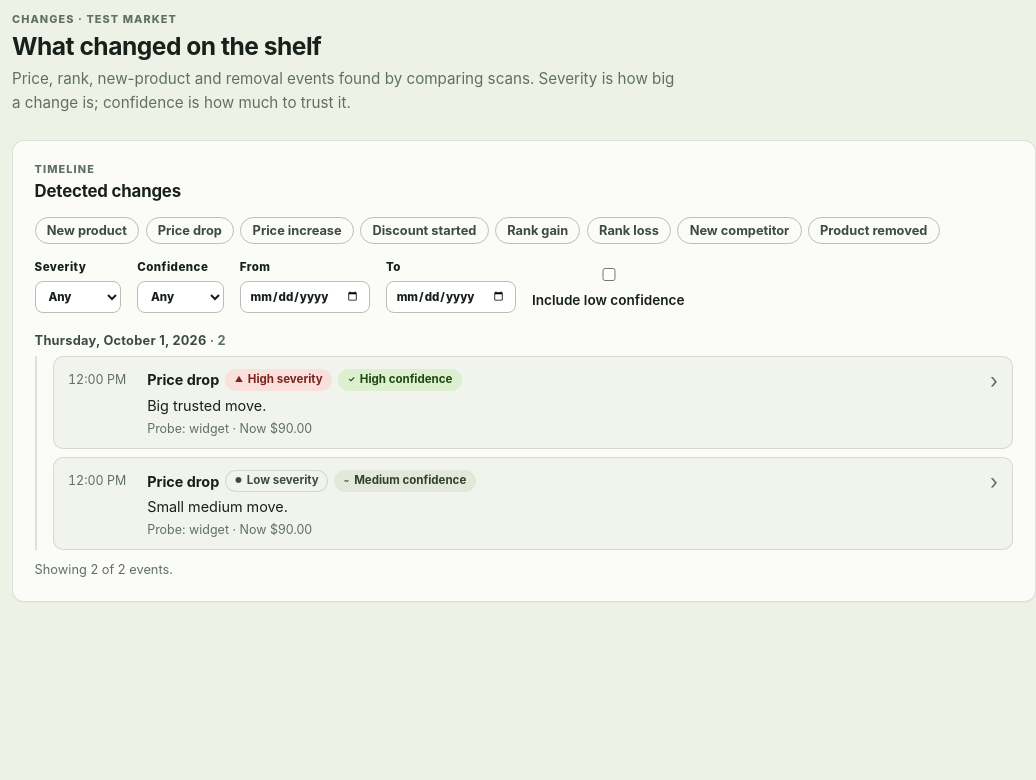
ChangesPage › filters the loaded events by severity and by confidence
This screenshot has width=1036, height=780.
Select "High" in the dropdown labelled "Severity" at {"x": 78, "y": 297}, box [35,281,121,313]
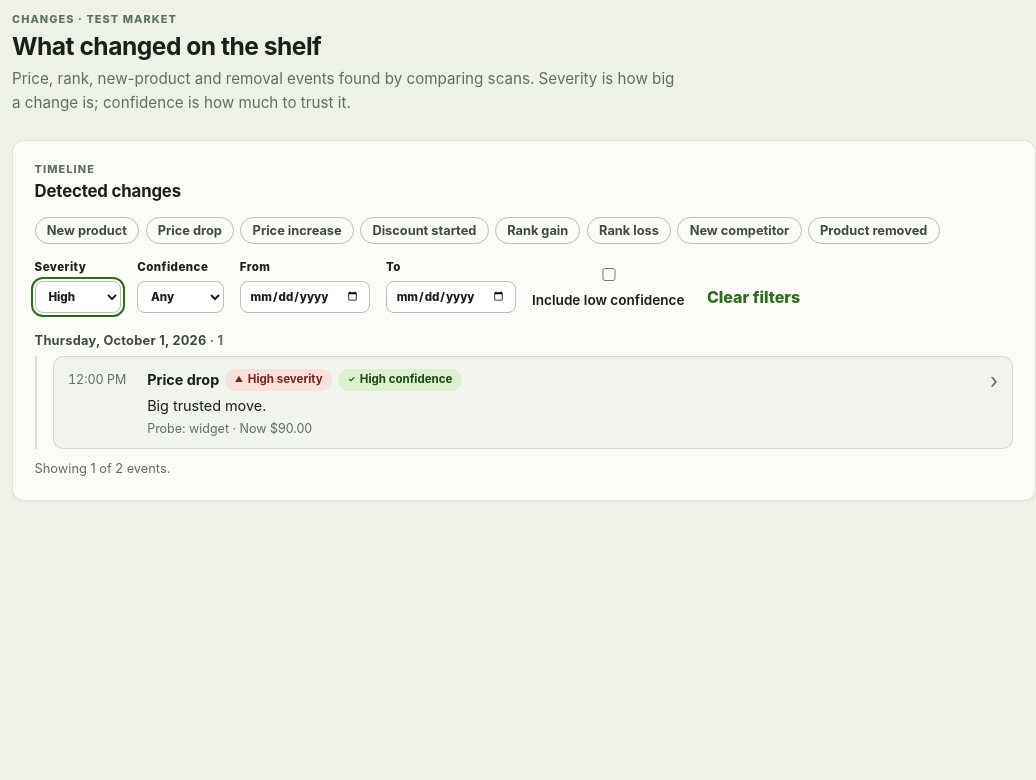
Expected: the text "Big trusted move." is shown, [147,397,266,414]
Expected: the button "Small medium move." is gone
Select "Any" in the dropdown labelled "Severity" at {"x": 78, "y": 297}, box [35,281,121,313]
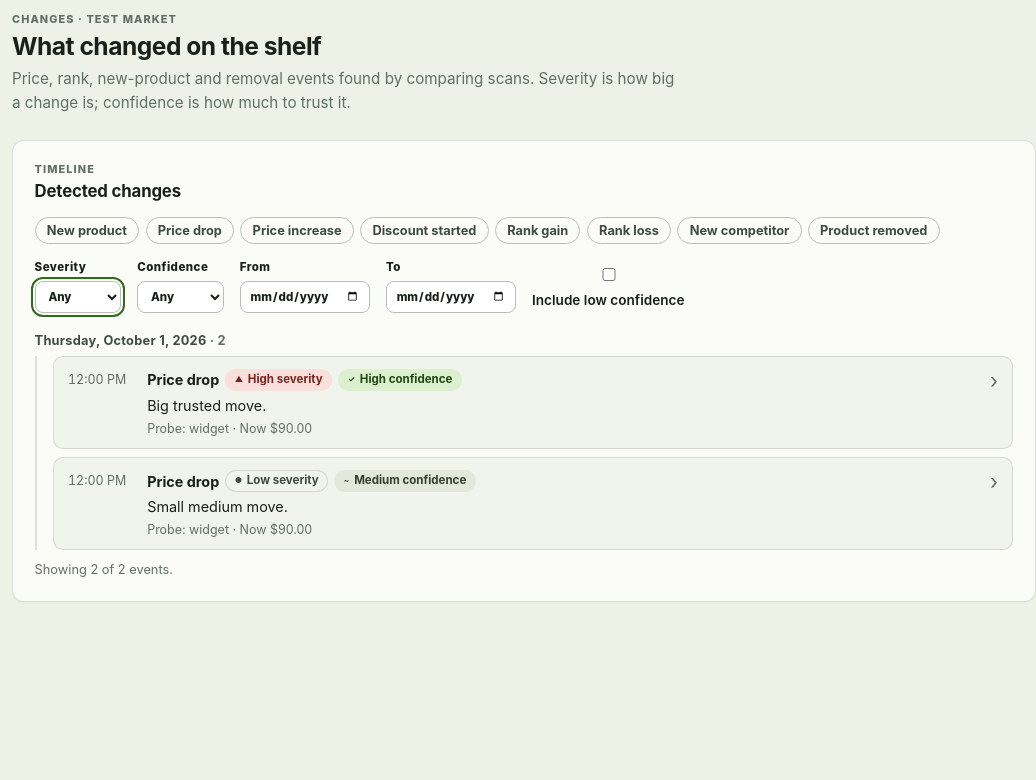
Select "Medium" in the dropdown labelled "Confidence" at {"x": 180, "y": 297}, box [137,281,224,313]
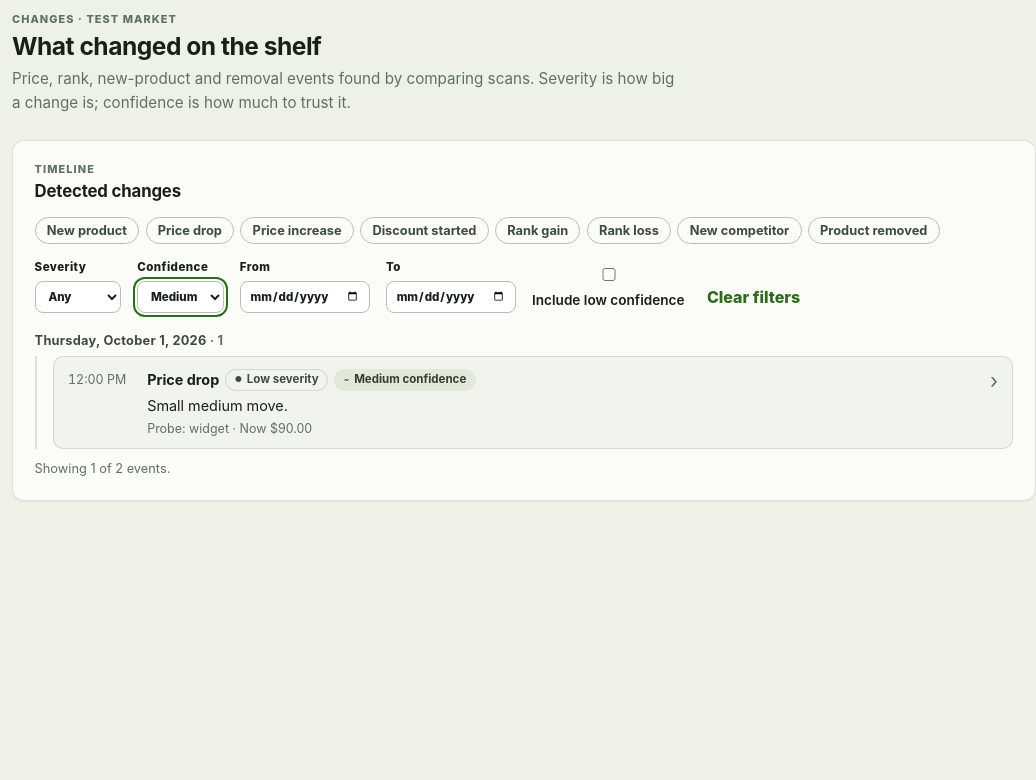
Expected: the text "Small medium move." is shown, [147,397,288,414]
Expected: the button "Big trusted move." is gone
